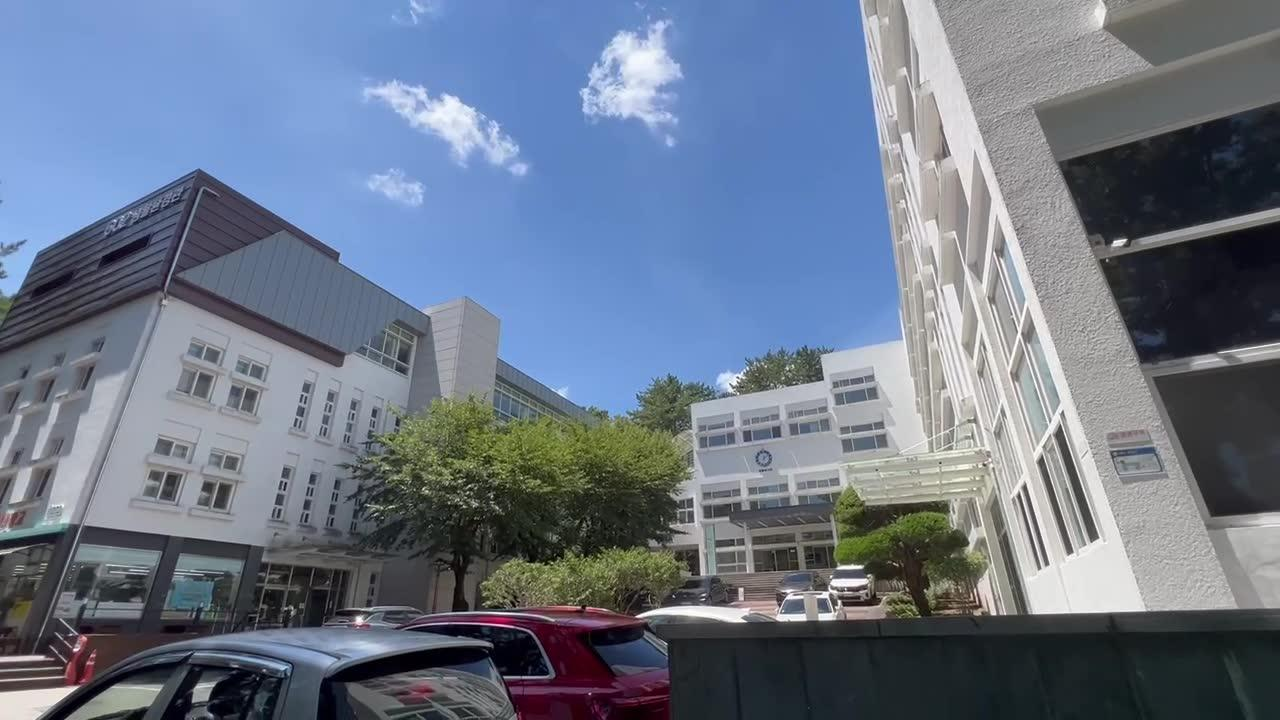building: (31, 13, 1280, 583)
